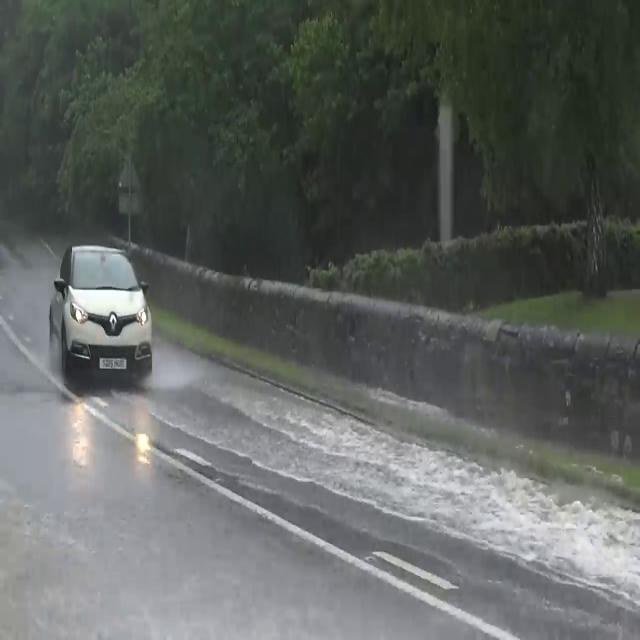license-plate-annotation: (98, 358, 130, 372)
